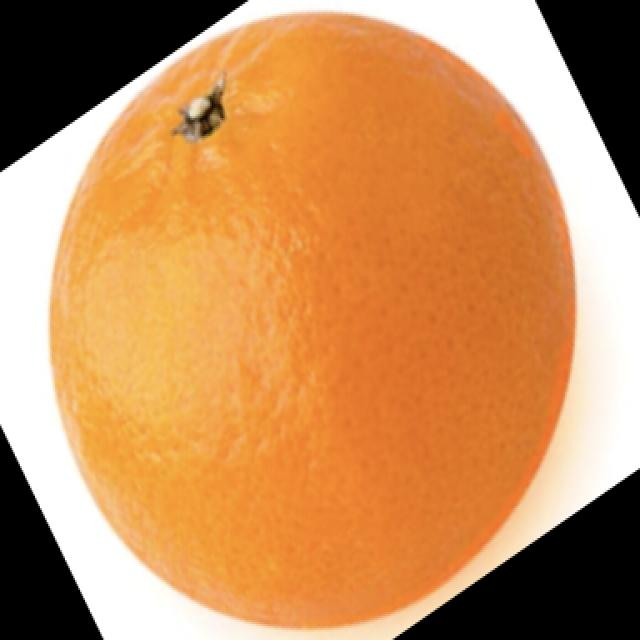fresh: (43, 6, 570, 632)
